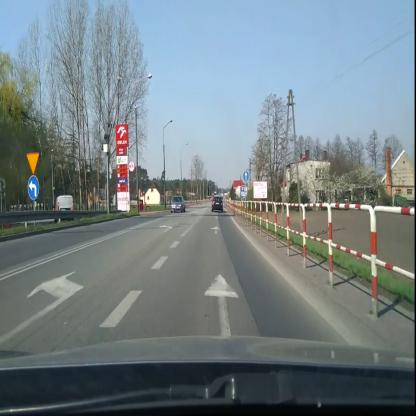cars: (171, 196, 186, 212), (212, 197, 223, 213)
